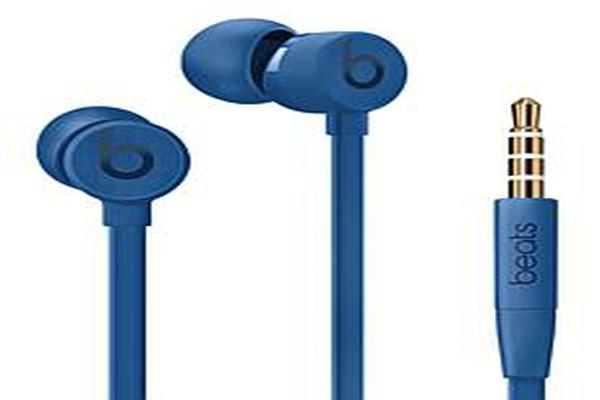headphone: (22, 12, 443, 265)
